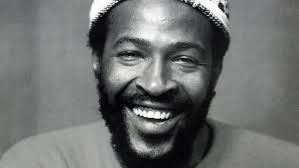black_male: (99, 1, 225, 159)
